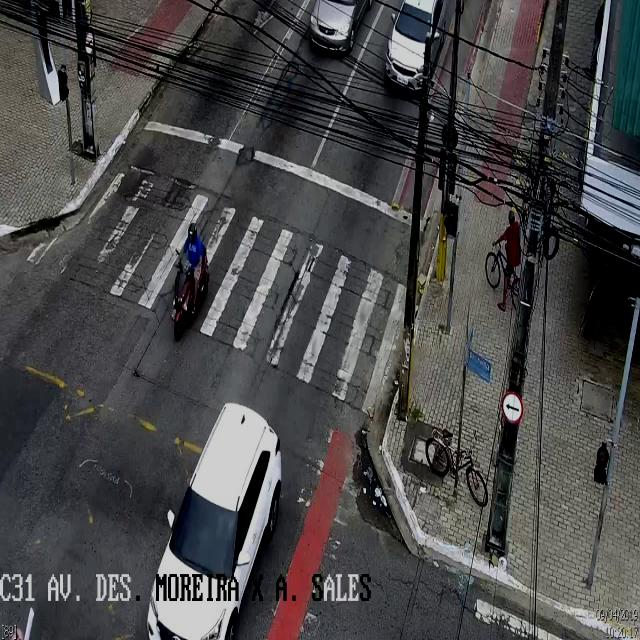Car: (146, 401, 282, 639), (384, 1, 446, 95), (308, 0, 374, 51)
Motorcycle: (171, 220, 209, 338)
